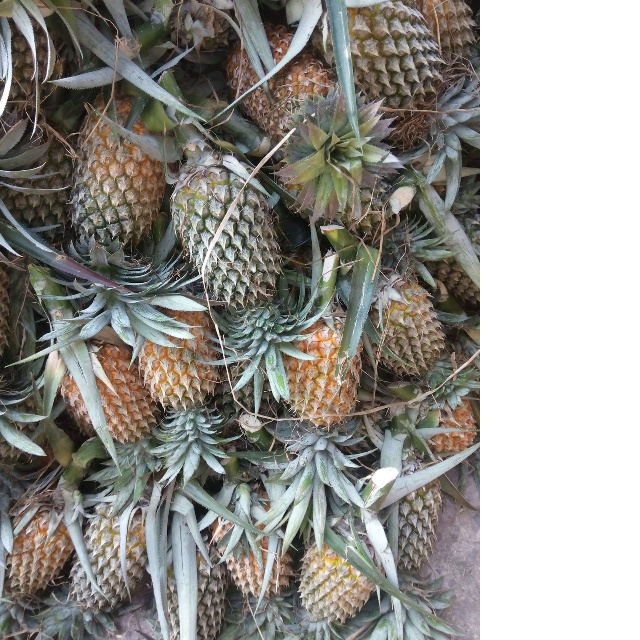thom: (164, 151, 295, 310), (65, 96, 176, 268), (283, 301, 373, 438)
